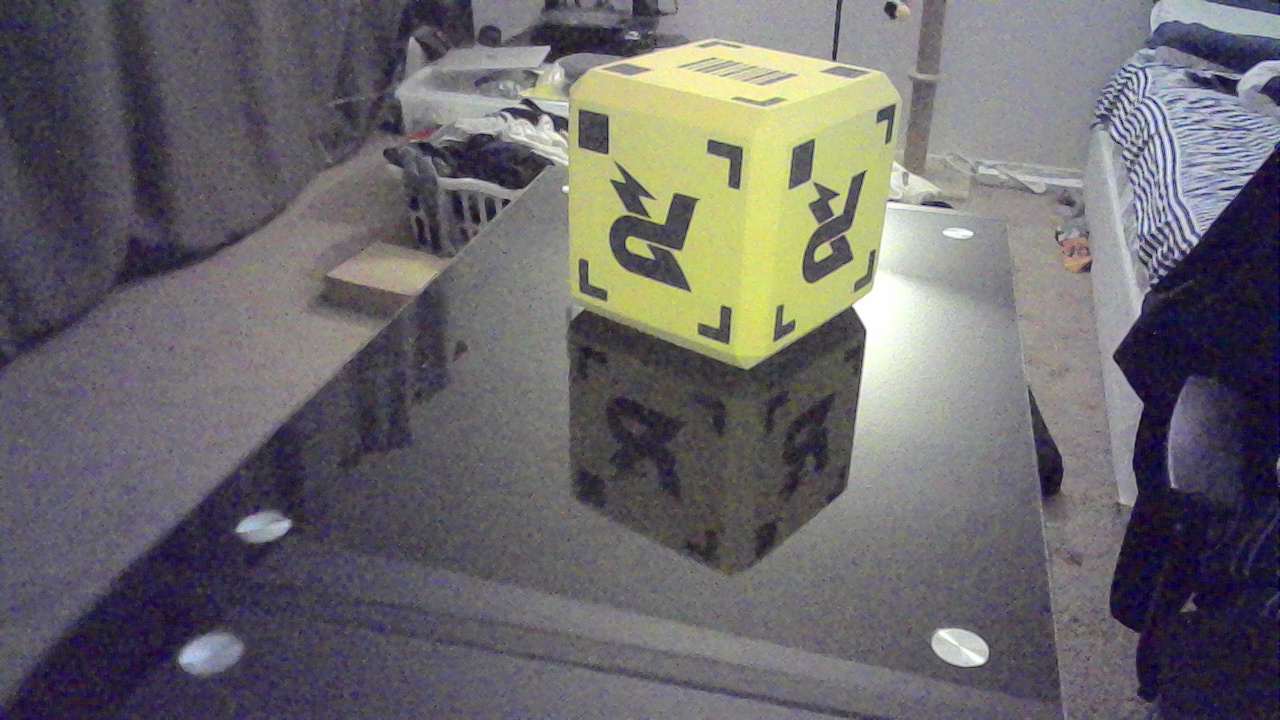Barcode: (691, 58, 804, 96)
R: (606, 174, 719, 295), (800, 182, 874, 286)
